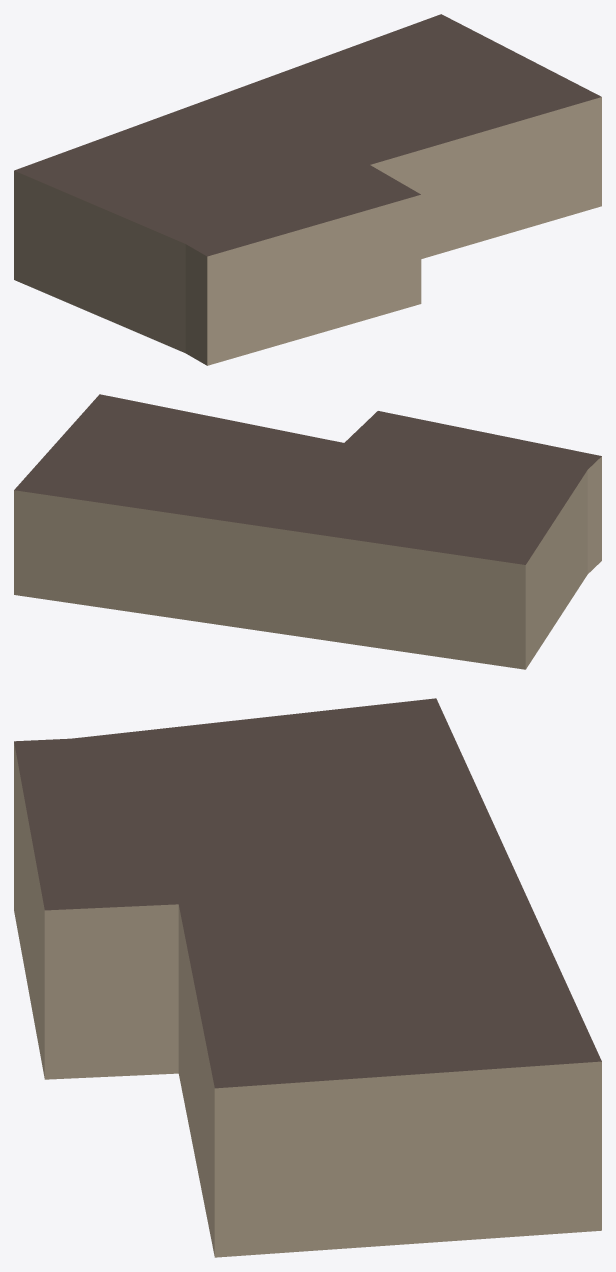
The picture shows the model from 3 angles, top to bottom: view 1: azimuth 30°, elevation 25°; view 2: azimuth 150°, elevation 25°; view 3: azimuth 270°, elevation 25°; orthographic projection. The views are drawn at different scales.
Parts seen in each view (by area): view 1: HP-w1512965887; view 2: HP-w1512965887; view 3: HP-w1512965887.
Boxes of the visible parts, left/top/right/bottom form: HP-w1512965887: left=14, top=14, right=601, bottom=365; HP-w1512965887: left=14, top=394, right=601, bottom=669; HP-w1512965887: left=14, top=698, right=601, bottom=1257.
Bounding box in the file's own units: 44.49 × 9 × 28.34.
